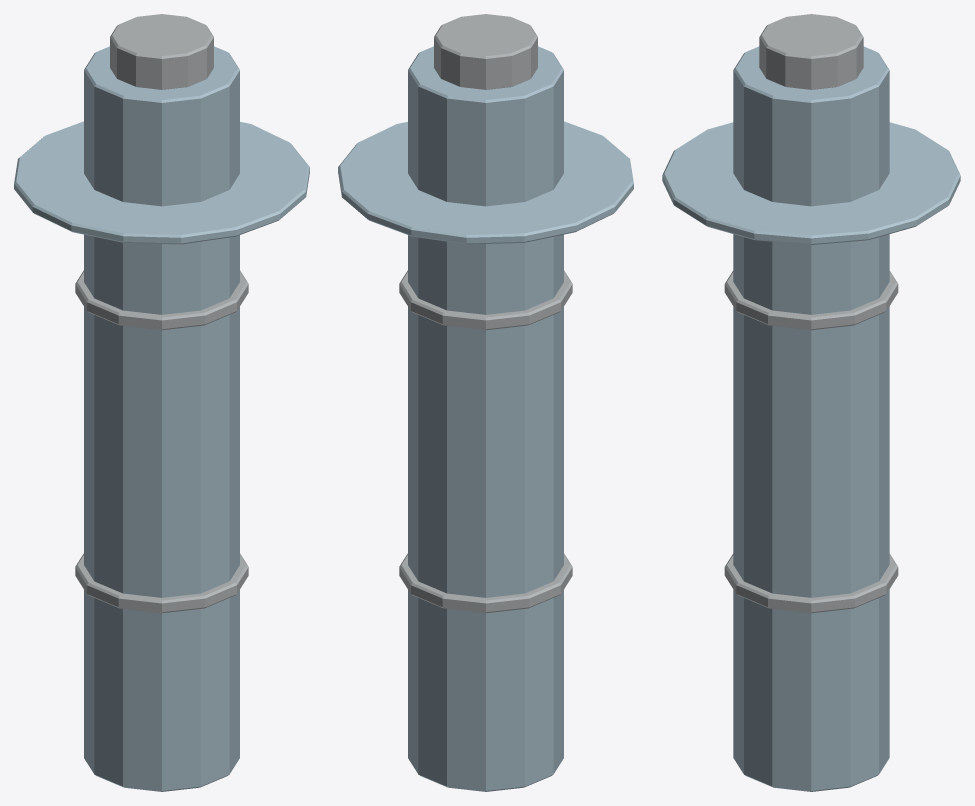
The model's file is future_tower.glb.
3 renders of one model, left to right at view 1: azimuth 30°, elevation 25°; view 2: azimuth 150°, elevation 25°; view 3: azimuth 270°, elevation 25°, orthographic.
Visible parts, largest first — view 1: body, ring, cap, band1, band2; view 2: body, ring, cap, band1, band2; view 3: body, ring, cap, band1, band2.
Part boxes in pixels (<box>): body: <box>84,46,239,791</box>; ring: <box>14,121,309,244</box>; cap: <box>110,14,213,89</box>; band1: <box>75,553,248,613</box>; band2: <box>75,270,248,330</box>; body: <box>408,46,563,791</box>; ring: <box>338,121,633,244</box>; cap: <box>434,14,537,89</box>; band1: <box>399,553,572,613</box>; band2: <box>399,270,572,330</box>; body: <box>733,46,889,791</box>; ring: <box>662,122,960,244</box>; cap: <box>759,14,863,89</box>; band1: <box>724,554,898,613</box>; band2: <box>724,271,898,330</box>.
Bounding box in the file's own units: 1.72 × 4.61 × 1.72.
